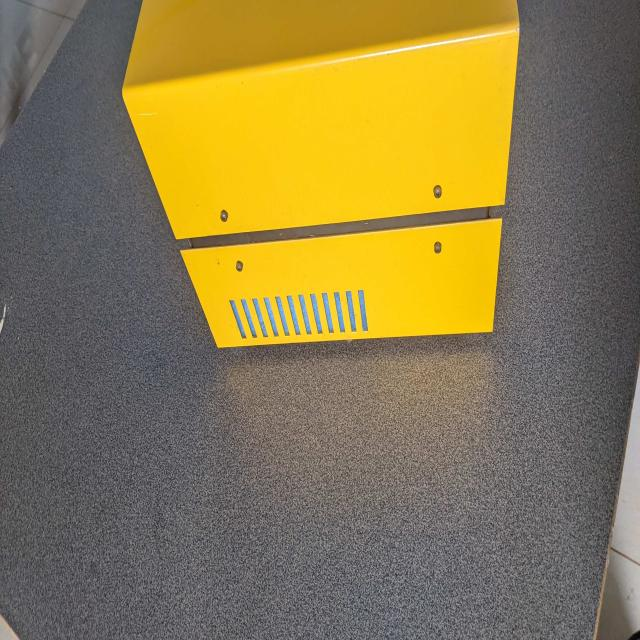Vacuum Pump: (113, 2, 525, 364)
